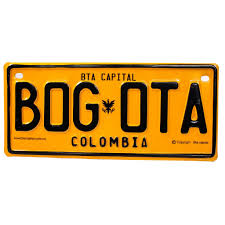number plate: (4, 63, 217, 159)
